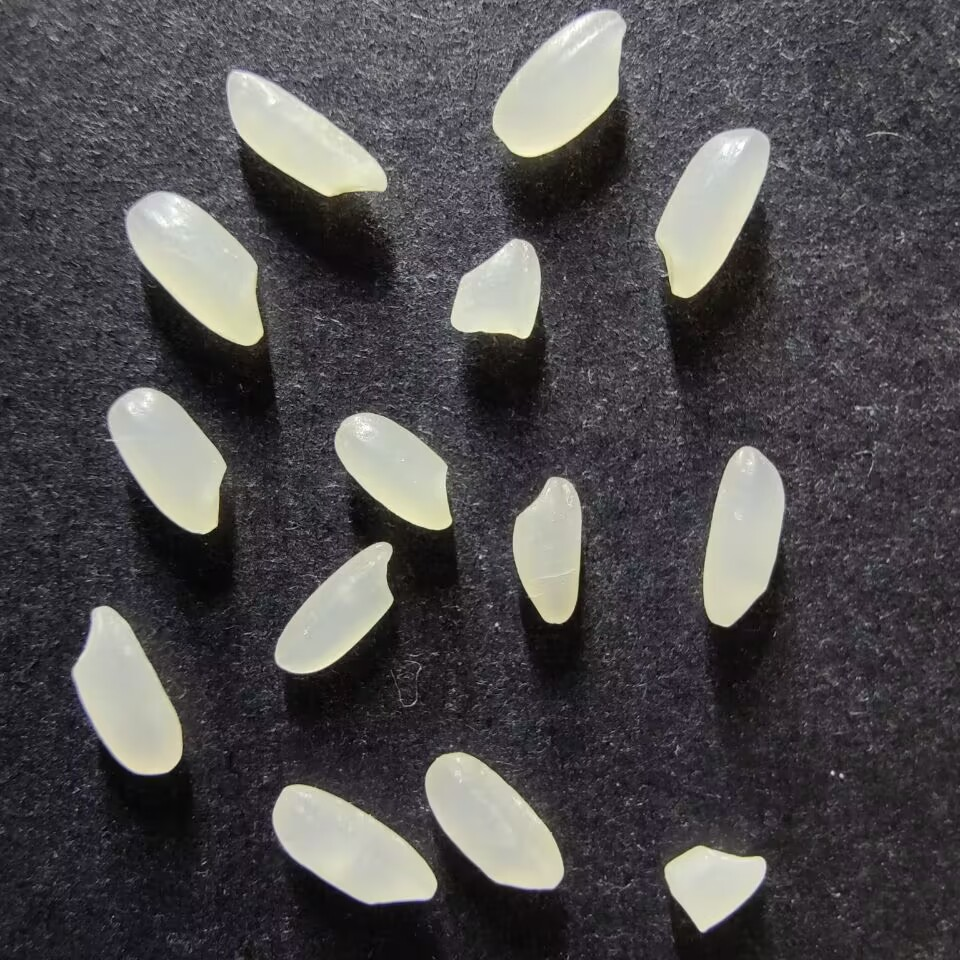broken: (450, 238, 541, 340), (663, 844, 767, 932)
rice: (125, 191, 263, 346), (225, 69, 387, 197), (271, 784, 438, 905), (491, 9, 626, 158), (423, 751, 565, 891), (654, 127, 769, 298), (71, 605, 183, 775), (107, 386, 227, 534), (273, 541, 393, 674), (702, 446, 784, 627), (333, 412, 452, 530), (511, 476, 582, 624)
